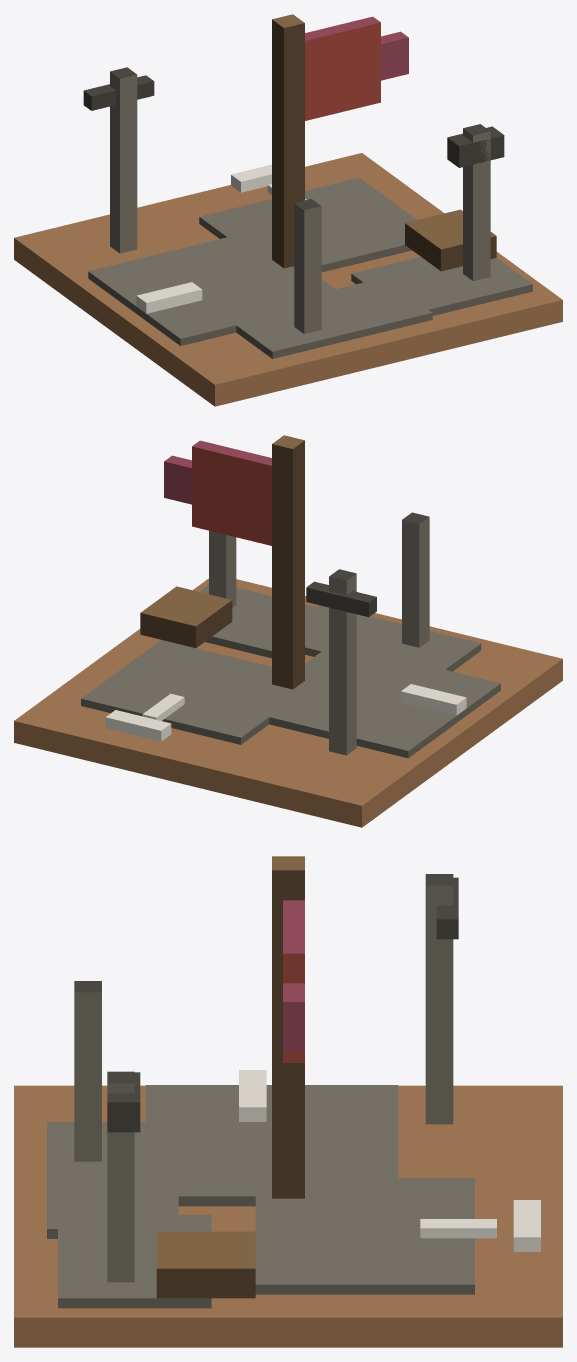
The model's file is terr_battlefield.glb.
3 views of the same model, one above another, from view 1: azimuth 30°, elevation 25°; view 2: azimuth 150°, elevation 25°; view 3: azimuth 270°, elevation 25° (orthographic). The views are drawn at different scales.
Parts seen in each view (by area): view 1: terr_battlefield; view 2: terr_battlefield; view 3: terr_battlefield.
Boxes of the visible parts, x1,y1,x2,y2 form: terr_battlefield: (14,14,562,406); terr_battlefield: (14,435,562,827); terr_battlefield: (14,856,562,1347).
Bounding box in the file's own units: 1 × 0.74 × 1.
1 material, 1 textured.
